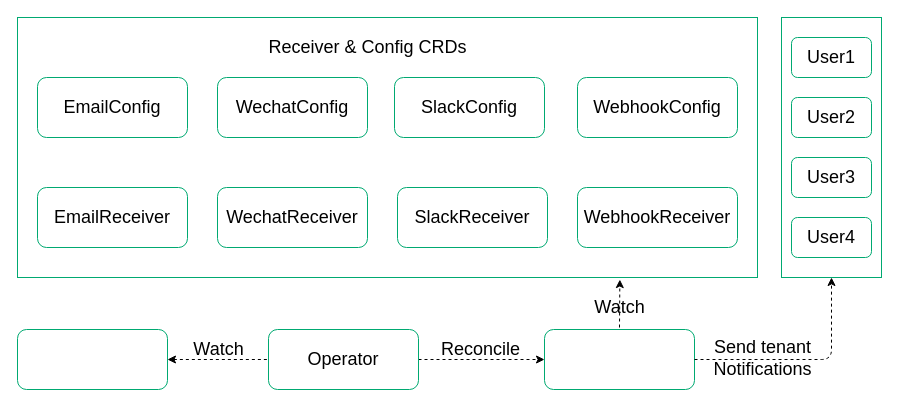
Some shapes in this 899 by 407 pixel diagram are drawn without their labels. Each missing label, with the centre of its shape:
NM Deployment: point (619, 359)
Notification Manager CRD: point (92, 359)
